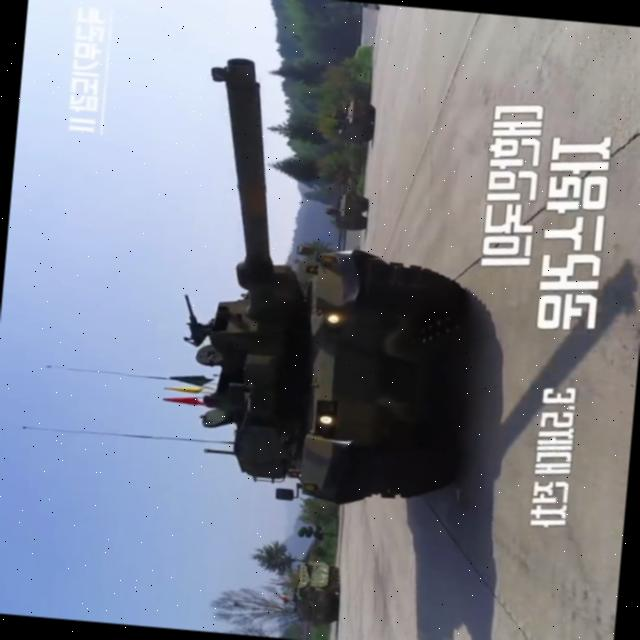korea tank: (158, 52, 492, 518)
